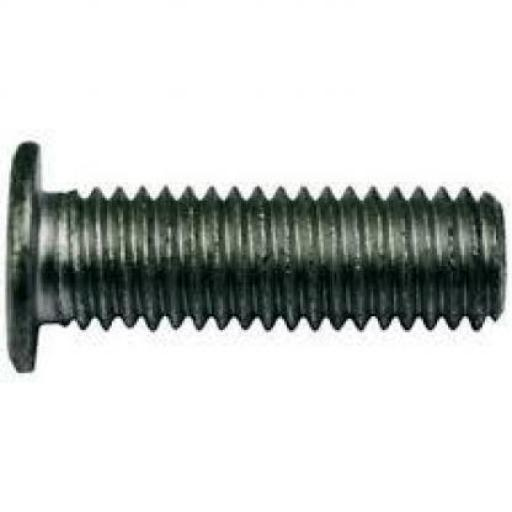Bolt: (5, 140, 508, 375)
